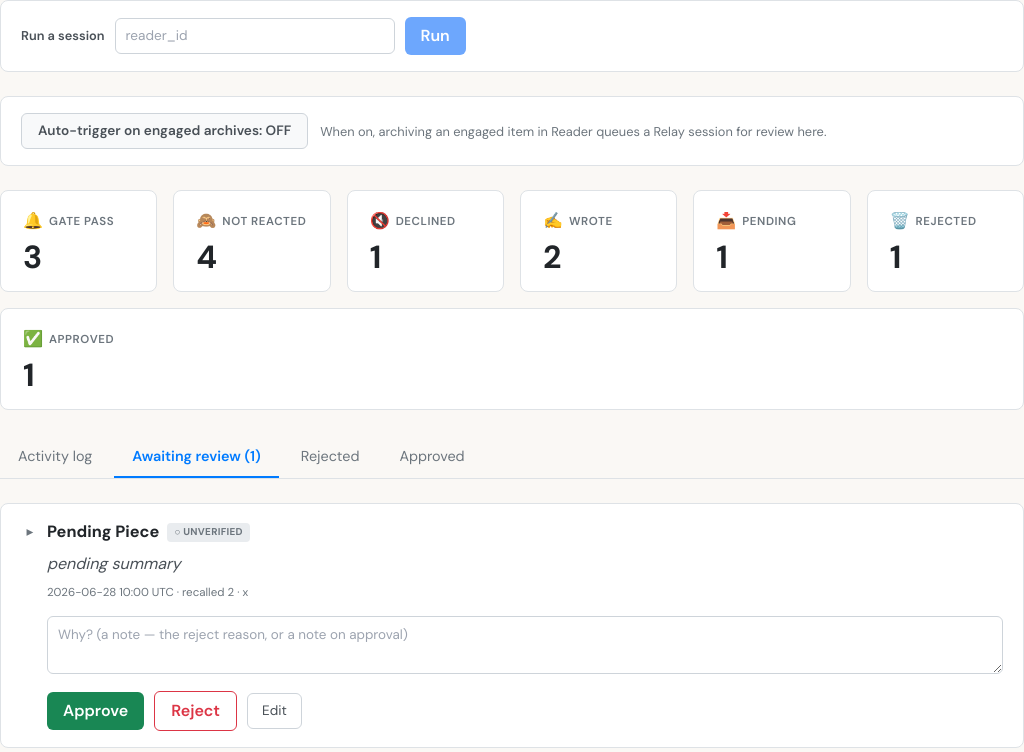
Test case: RelayAgent › surfaces a bridge error and does not refresh
This screenshot has width=1024, height=752.
What coordinates should you click on to do the following:
click the button "Approve"
I would click on:
 (96, 711)
Its box is [47,692,144,730].
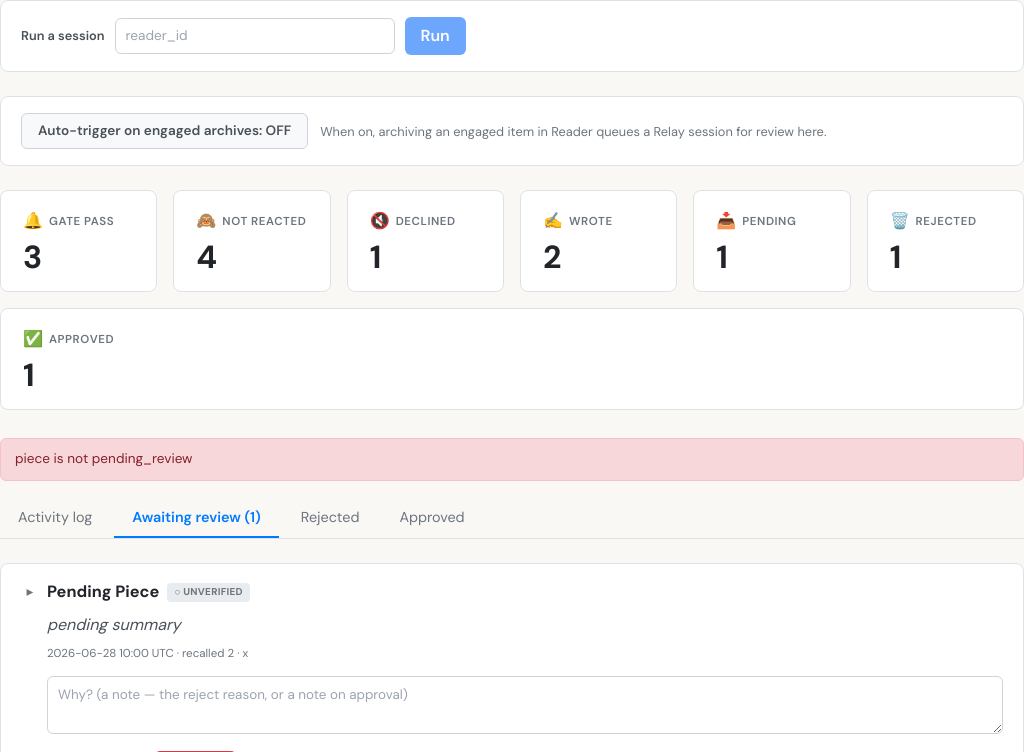
Result: the text "piece is not pending_review" is shown at [0,438,1023,481]
